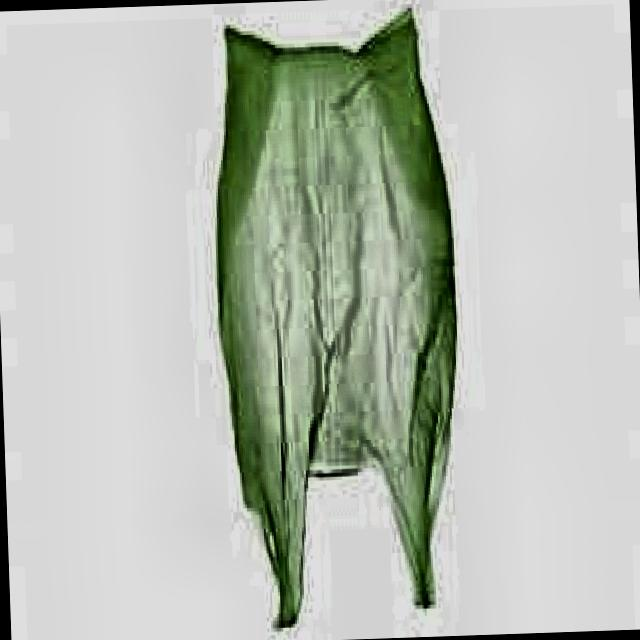plastic bag: (217, 13, 455, 628)
